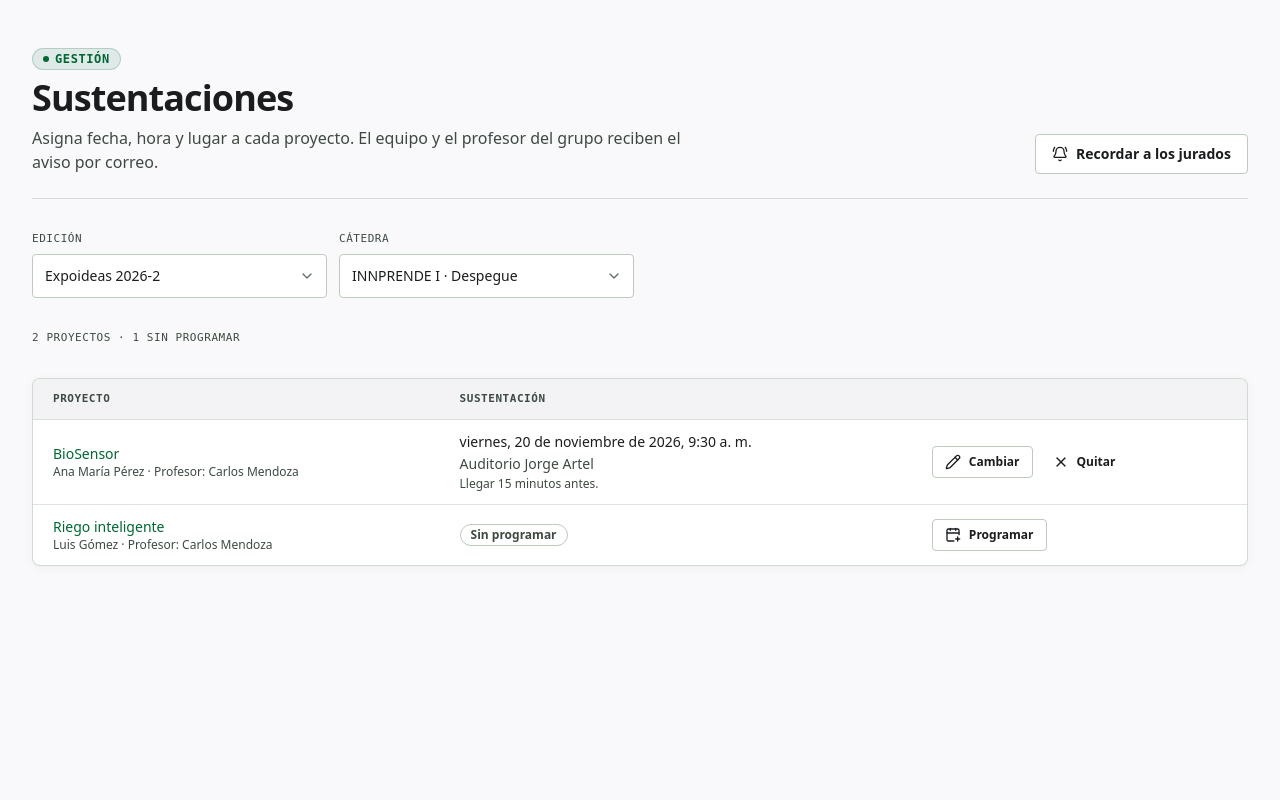
Test: La agenda de sustentaciones › sin lugar no programa
Step 1. Click the button "Programar" → x=989, y=535, box [932,519,1047,551]
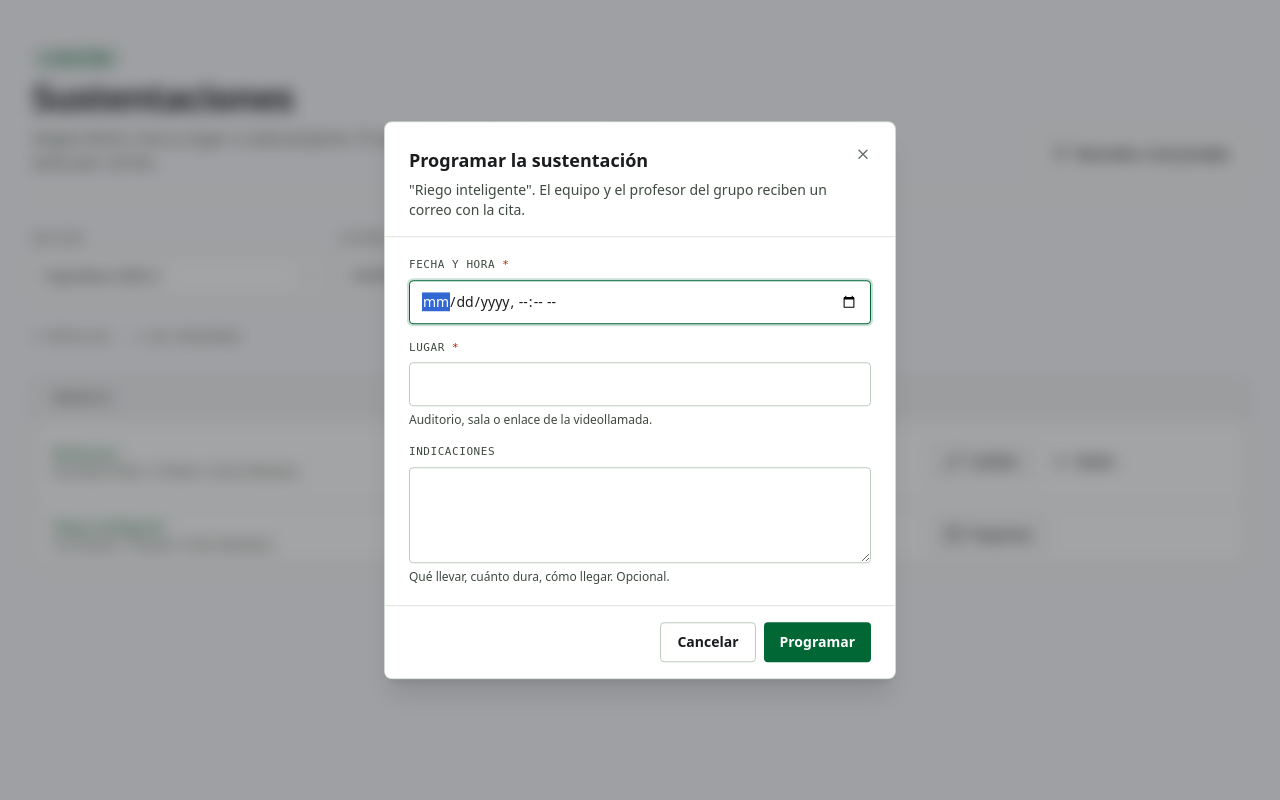
Step 2. Click the button "Programar" → x=817, y=642, box [764,622,871,662]
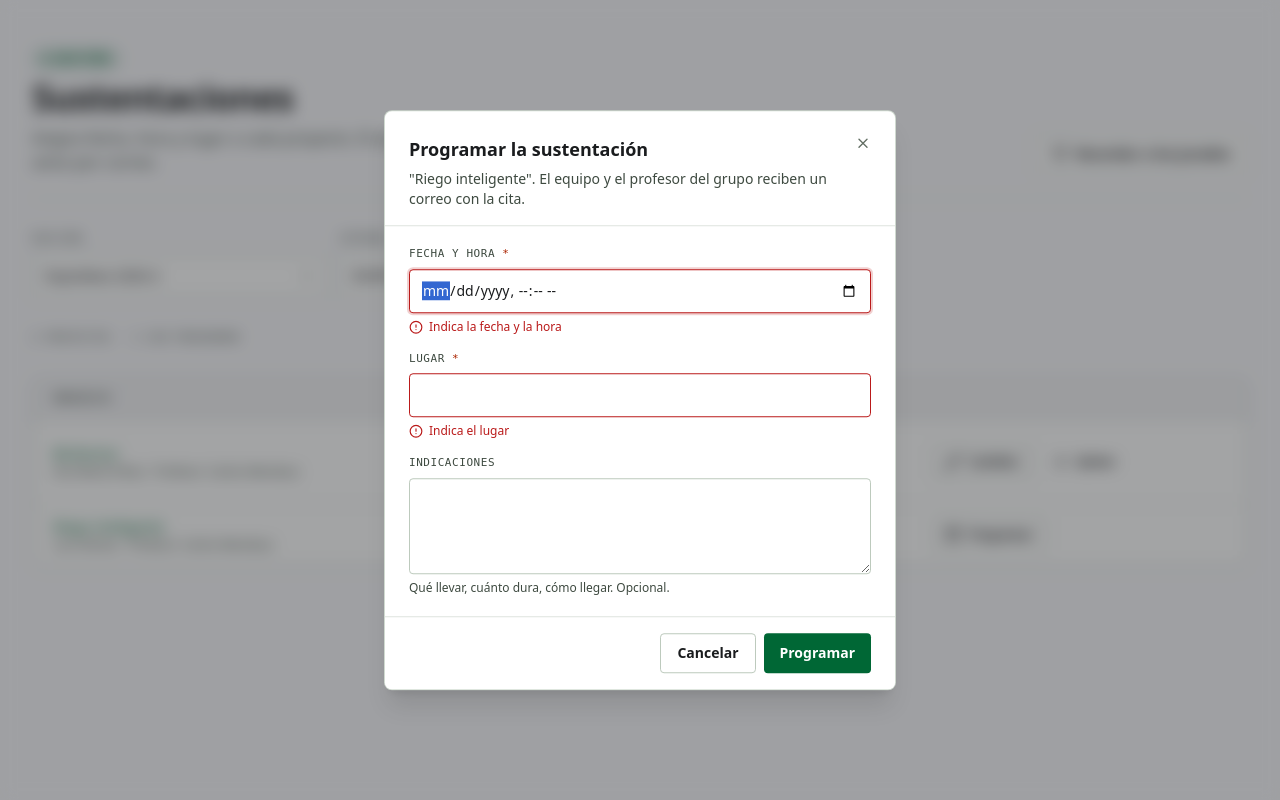
Now the text "Indica el lugar" is shown, box [409,422,509,439]
